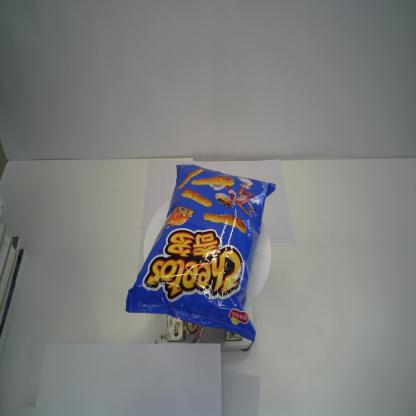Puffed Food: (124, 162, 277, 341)
